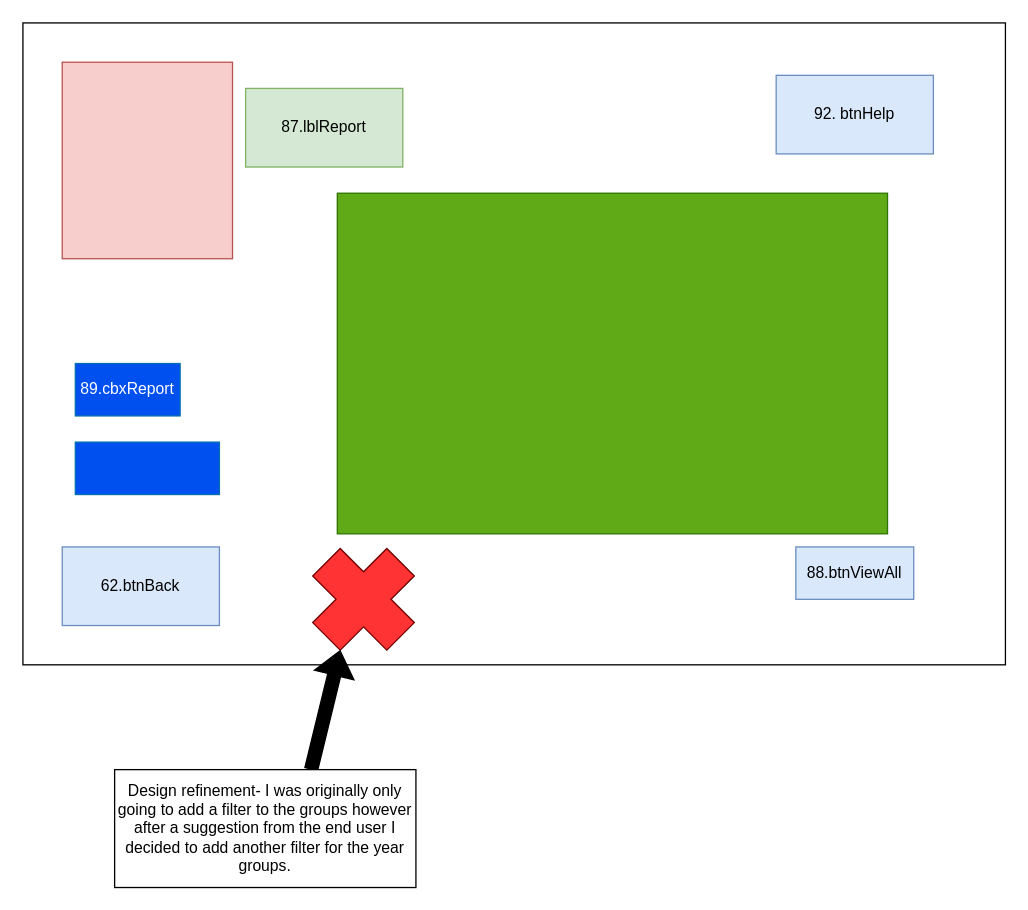
Some shapes in this 1028 by 910 pixel diagram are drawn without their labels. The shapes that lost their labels are listed below. From the top down, each one's box as (x1, y1, x2, y2) in pixels, then its label:
(61, 61, 233, 259): 90.pbxReport
(336, 192, 888, 534): 86.ltvReports
(74, 441, 219, 495): 91.cbxYearGroup
